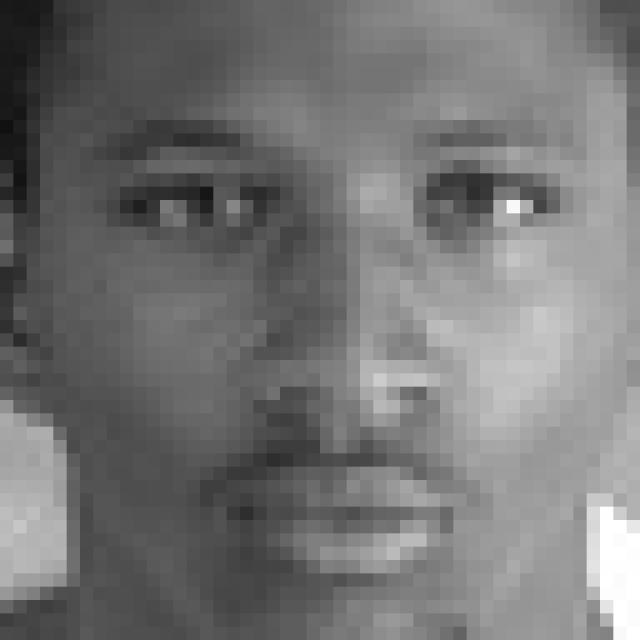neutral: (90, 114, 595, 593)
